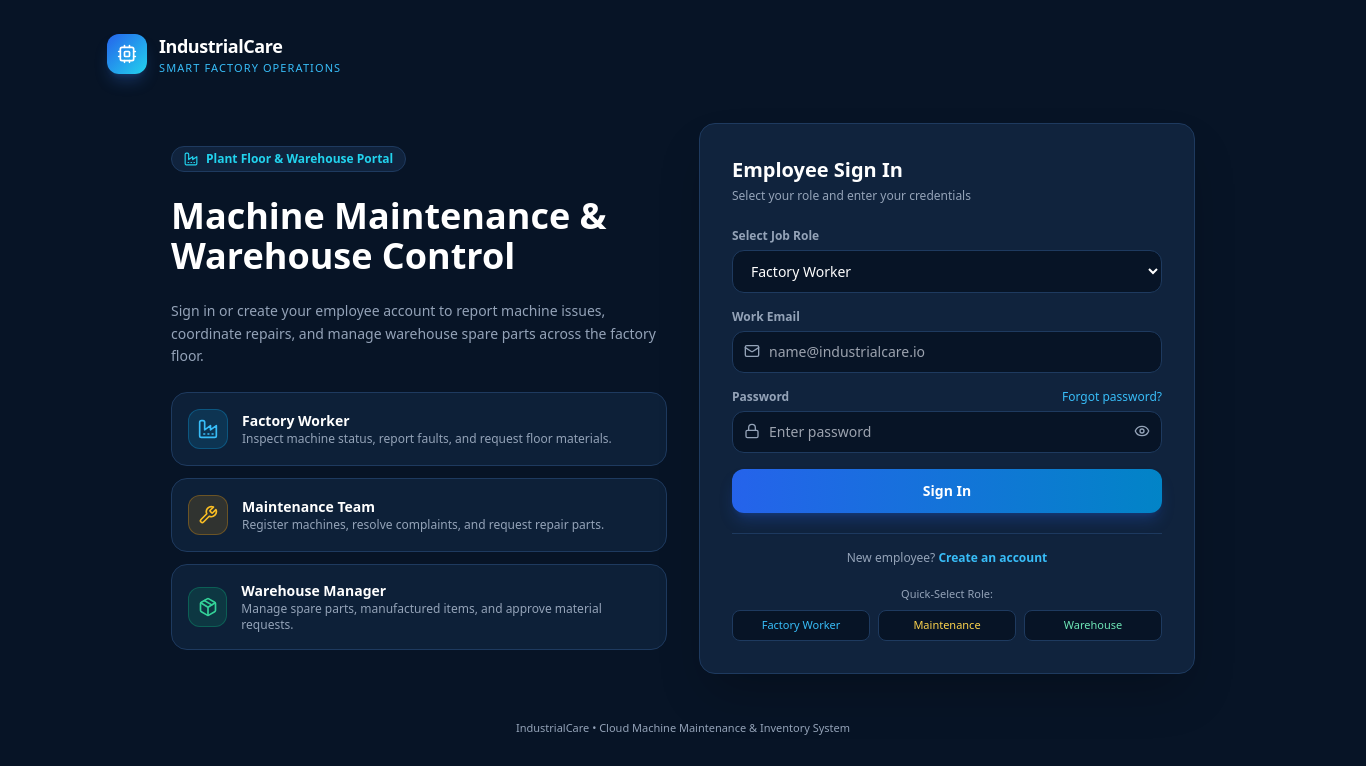
Test: startup + authentication UI › rejects a role mismatch with the original Access Denied message and signs out
Check: the heading "Employee Sign In" is shown, box [732, 156, 903, 182]
Select "Factory Worker" in the dropdown at (947, 271), box [732, 250, 1162, 292]
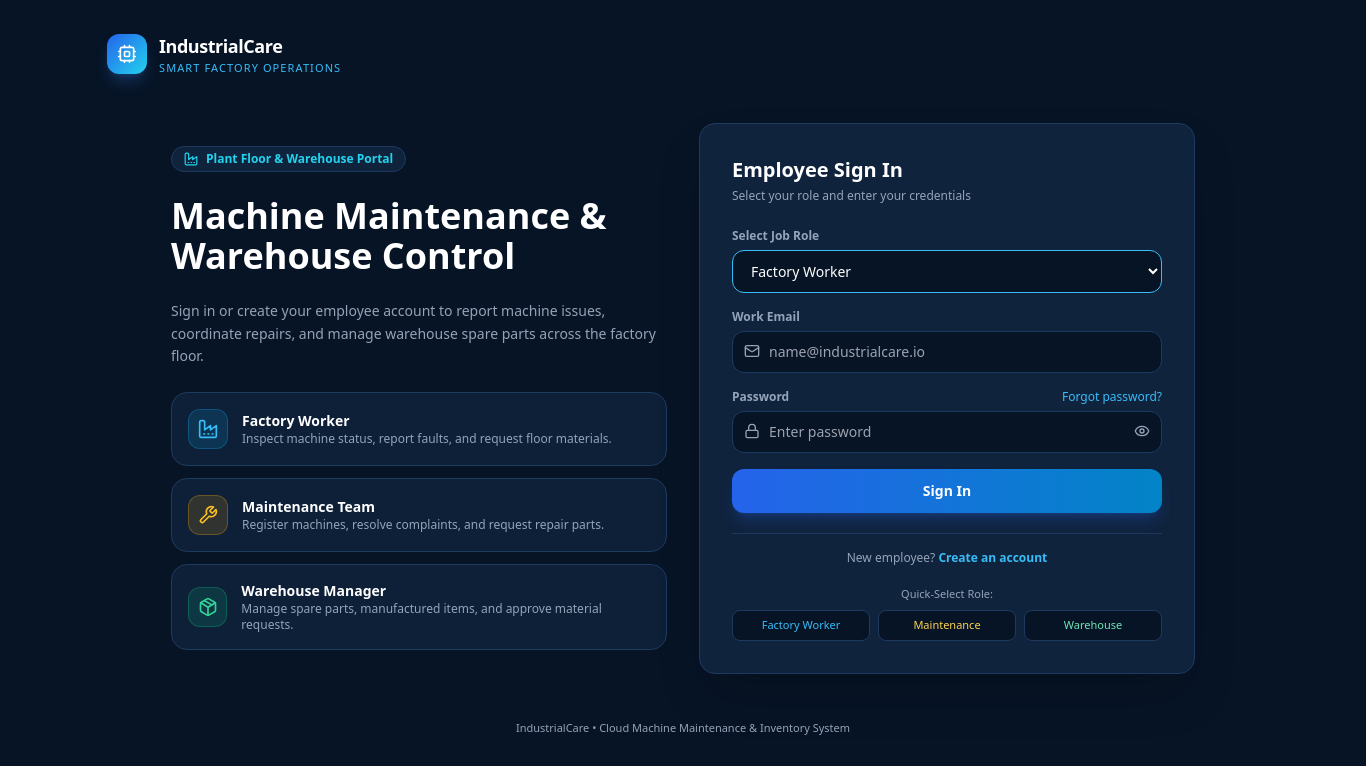
Type "maint@x.io" into the field with placeholder "name@industrialcare.io".
click(947, 352); type("maint@x.io")  # box [732, 330, 1162, 372]
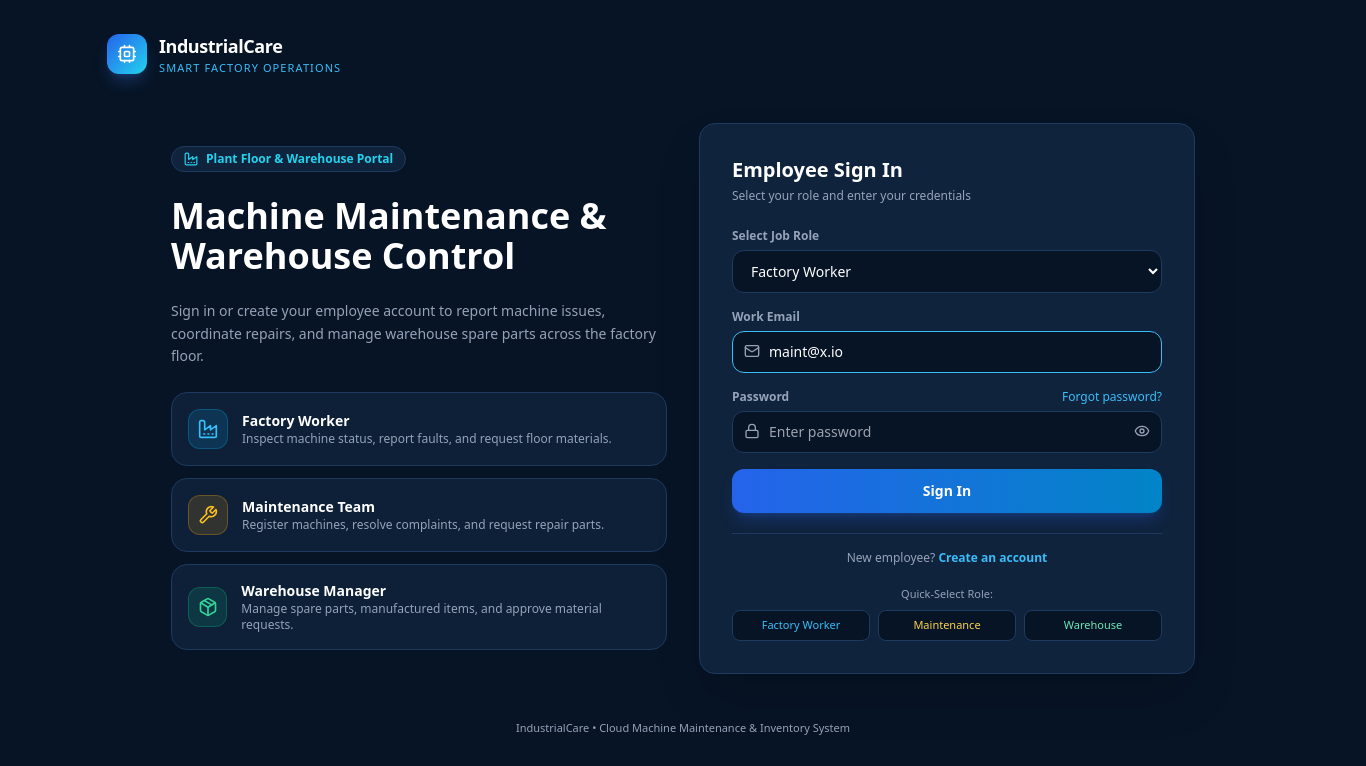
Type "correct-horse" into the password field with placeholder "Enter password".
click(947, 432); type("correct-horse")  # box [732, 410, 1162, 452]
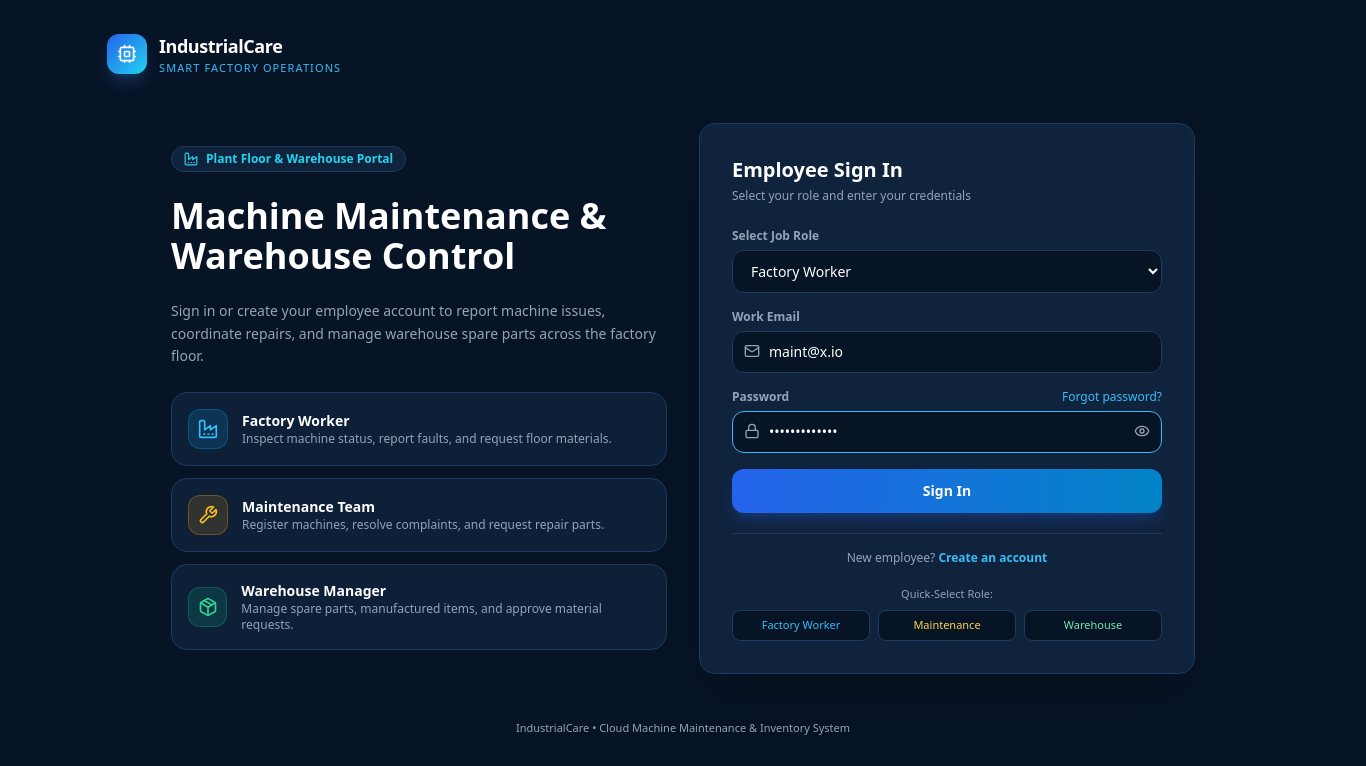
Click the button "Sign In".
click(947, 490)  # box [732, 468, 1162, 512]
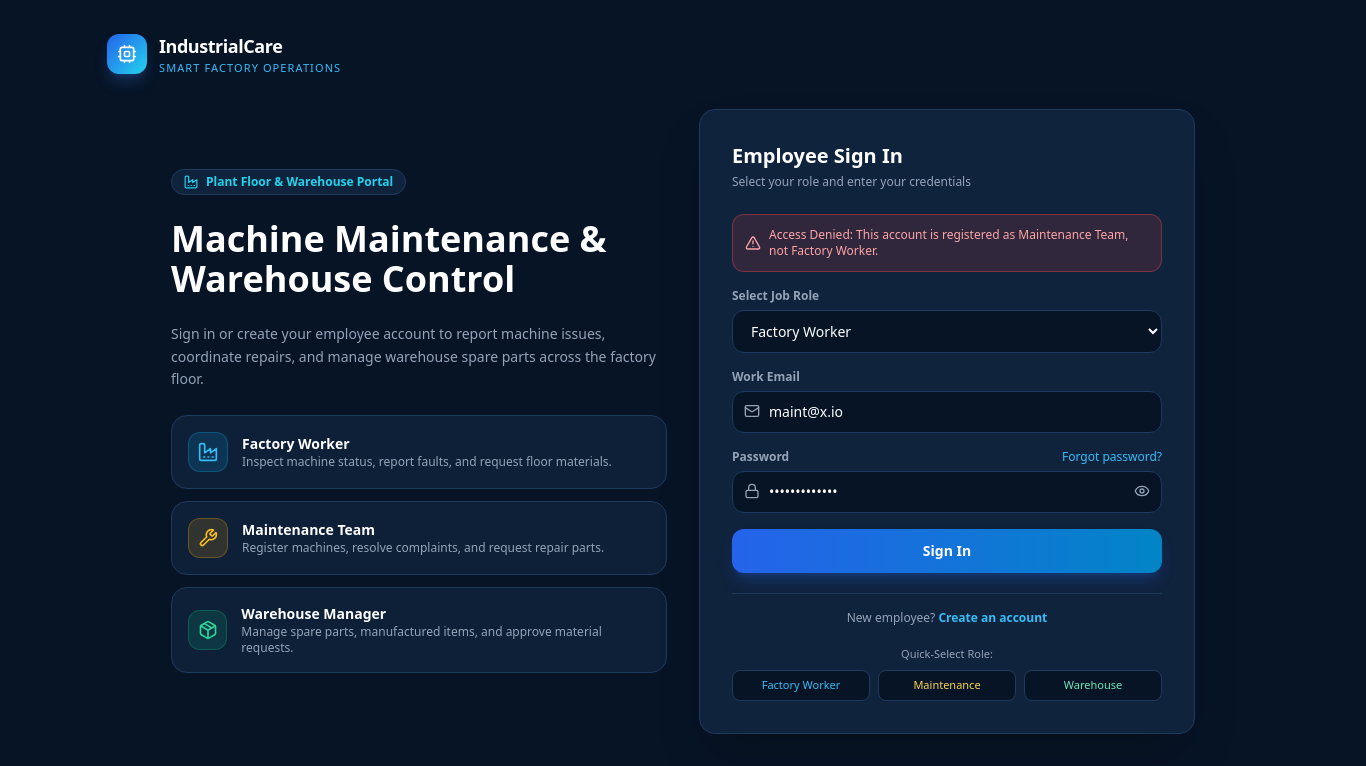
Check: the text "Access Denied: This account is registered as Maintenance Team, not Factory Worker" is shown, box [769, 226, 1128, 258]
